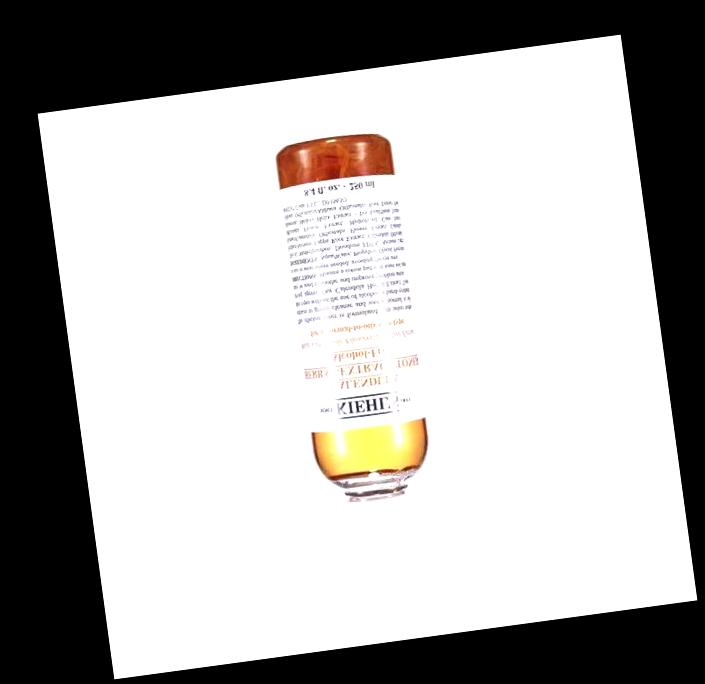cosmetic: (274, 127, 446, 581)
